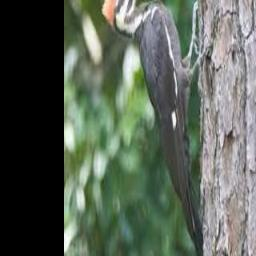Woodpecker: (101, 0, 205, 256)
